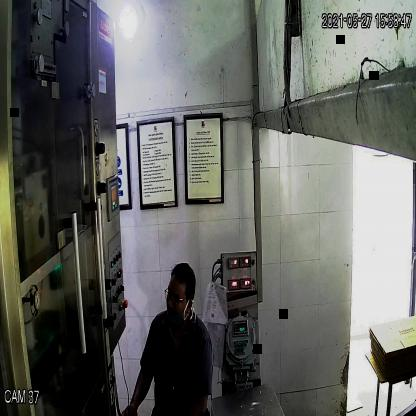goggles: (164, 284, 194, 306)
